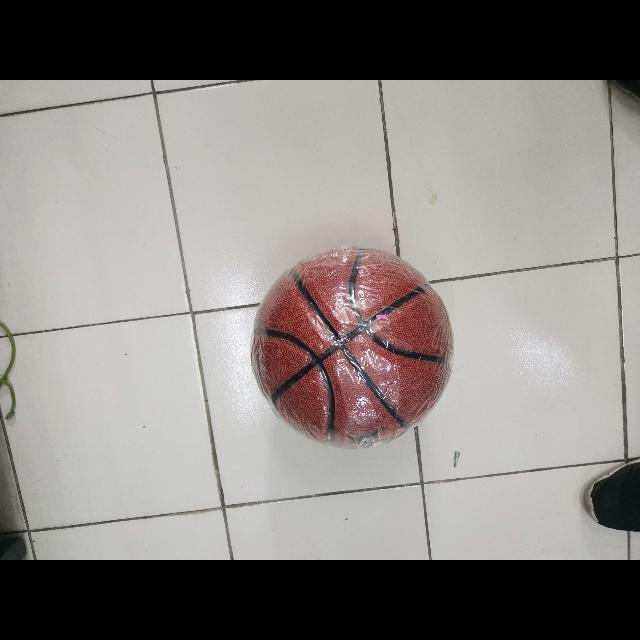basketball: (250, 249, 452, 446)
